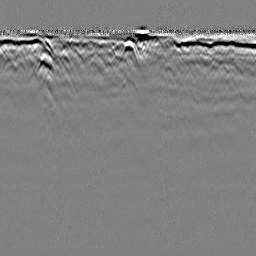cavity: (118, 40, 138, 63)
